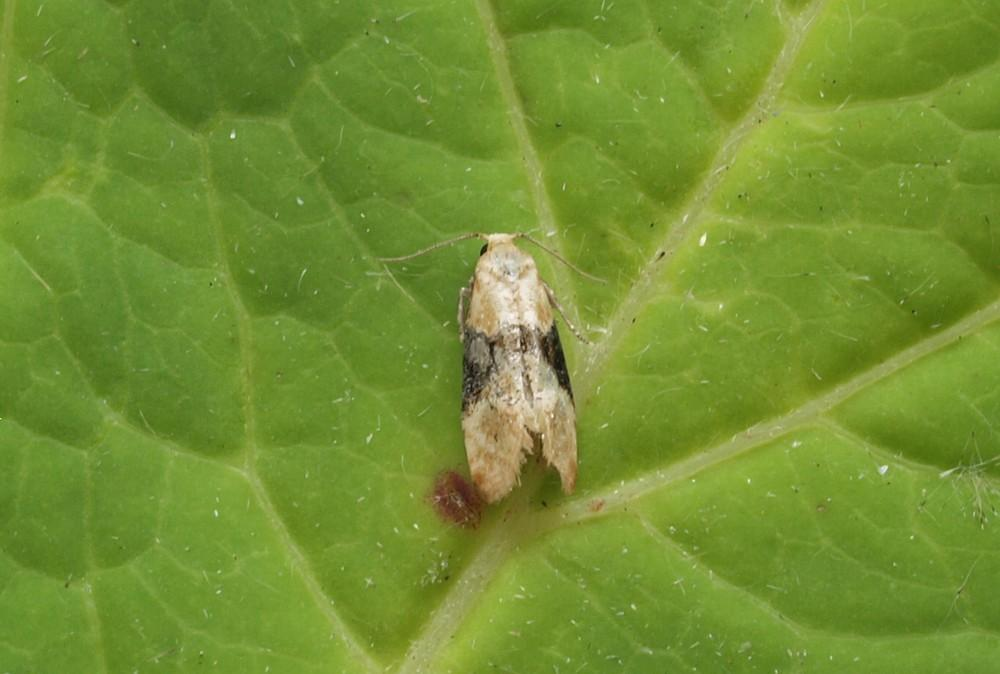Eupoecilia Ambiguella: (376, 225, 609, 510)
